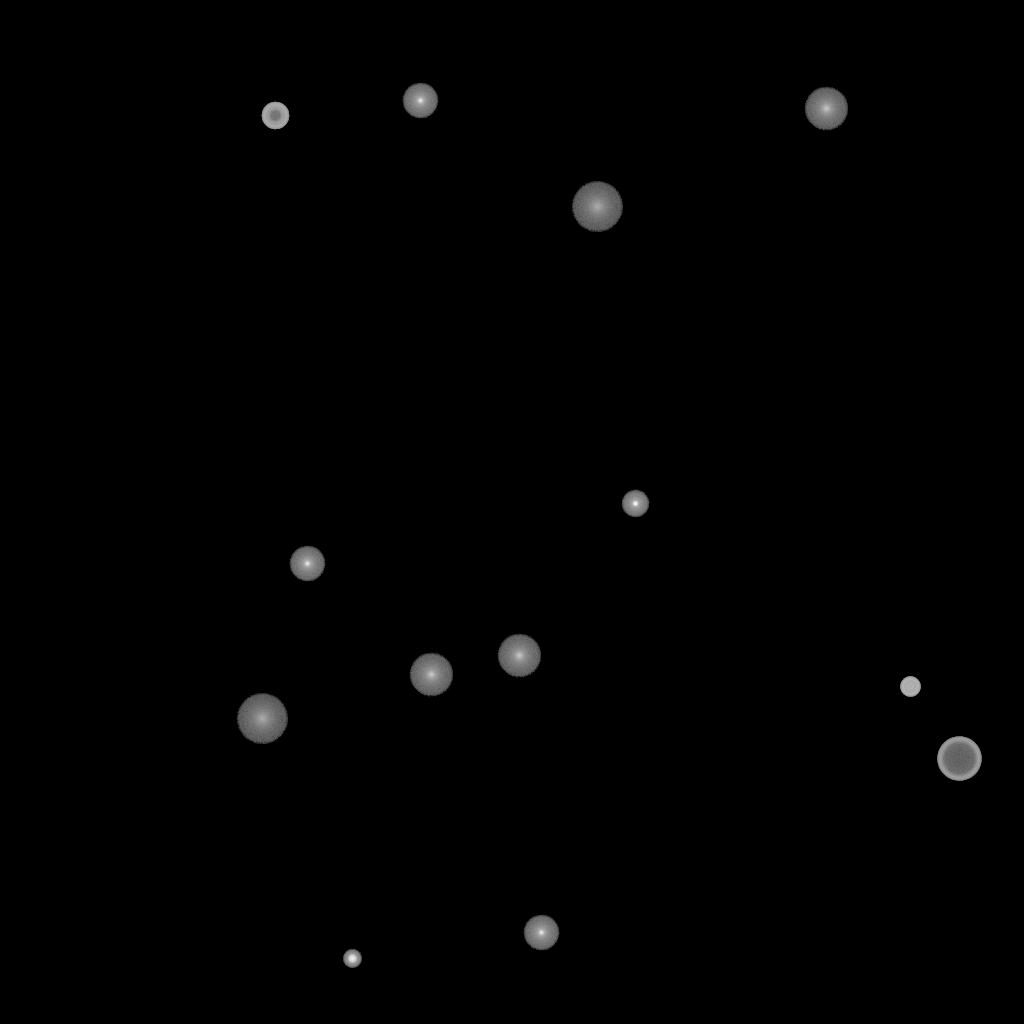depth:-10: (621, 490, 649, 518)
depth:-20: (343, 950, 361, 968)
depth:-40: (900, 677, 920, 697)
depth:-50: (261, 102, 289, 130)
depth:-70: (937, 737, 981, 781)
depth:0: (289, 546, 325, 582), (523, 915, 559, 951), (402, 83, 438, 119)
depth:10: (497, 634, 541, 678), (804, 87, 848, 131), (409, 653, 453, 697)
depth:20: (571, 182, 623, 232), (236, 694, 288, 744)
